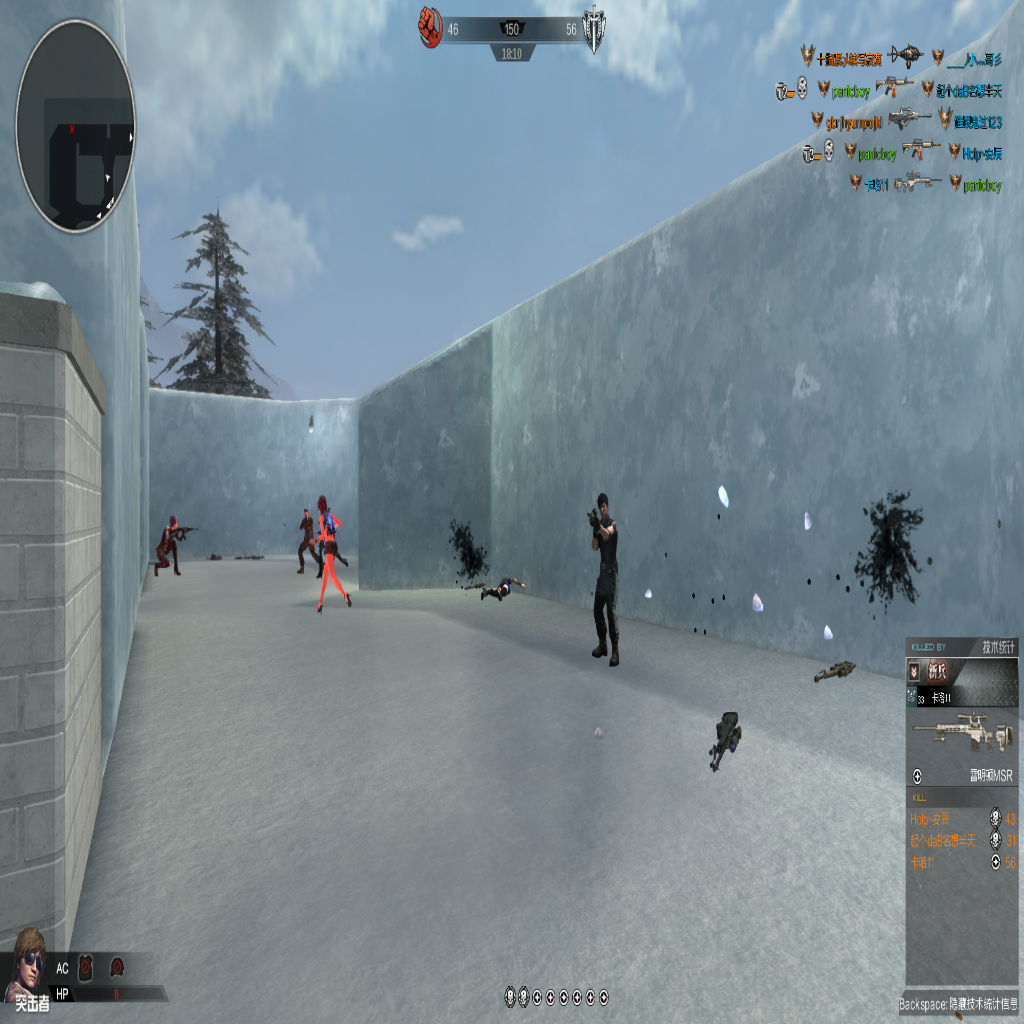ct: (588, 493, 619, 667), (313, 493, 350, 614), (155, 513, 188, 576), (295, 506, 316, 577)
